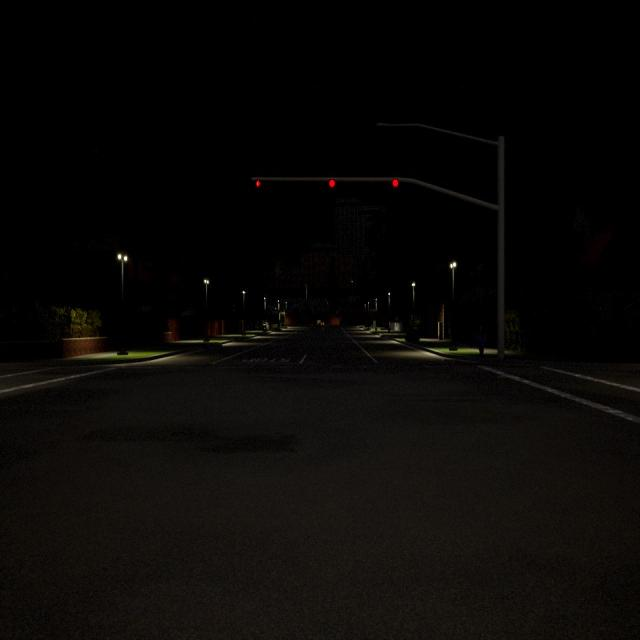Pedestrian: (478, 326, 484, 357)
traffic_light: (329, 180, 335, 188), (392, 178, 398, 186), (256, 180, 260, 187)
